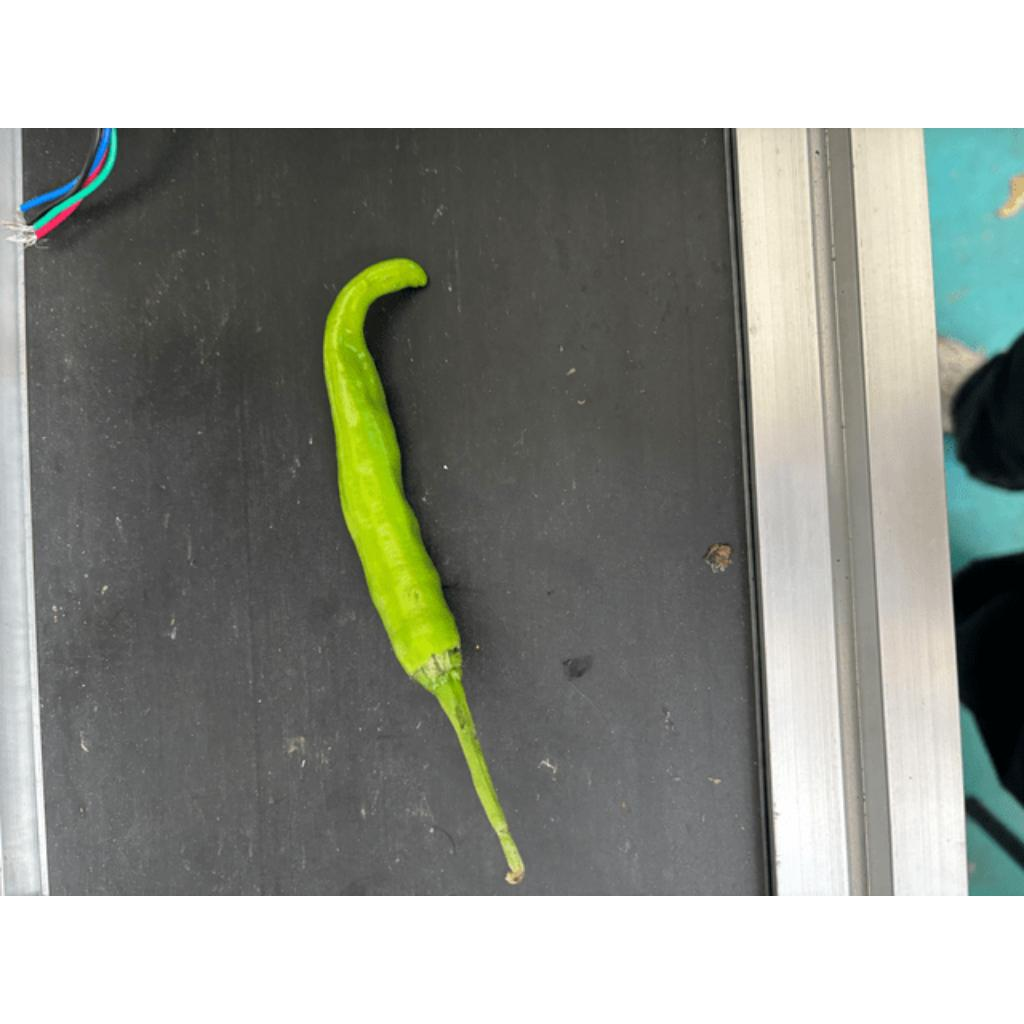chili: (316, 255, 467, 697)
